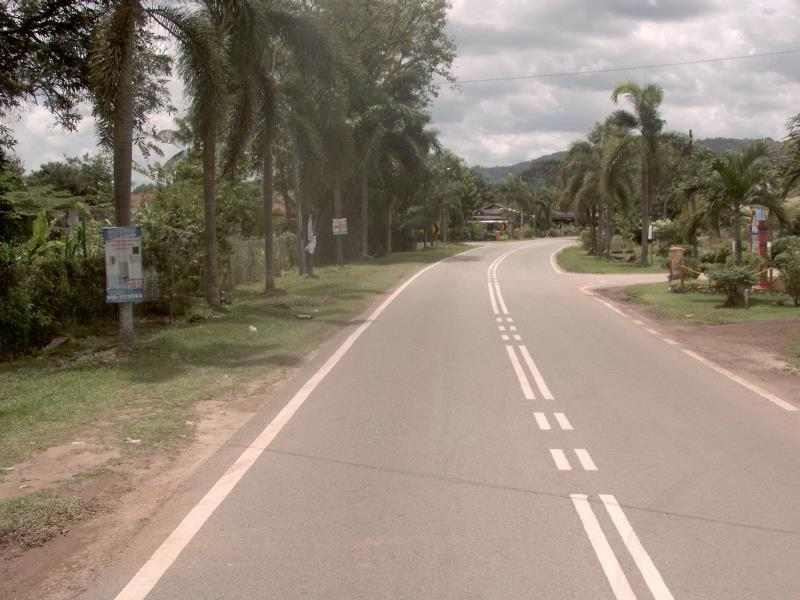ads_sign: (95, 218, 154, 313)
